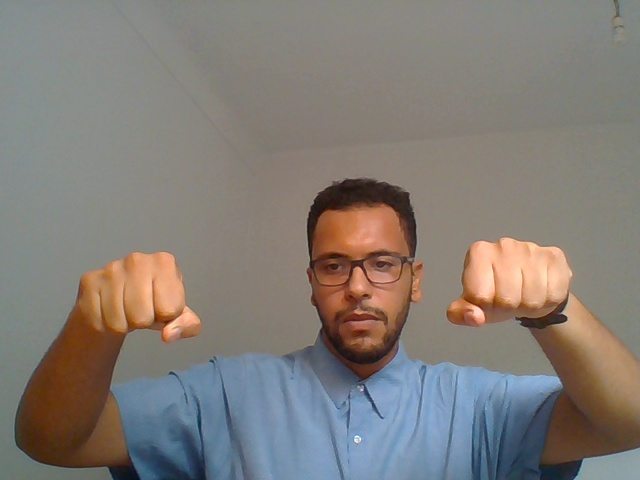yes: (50, 218, 231, 399), (447, 206, 591, 377)
